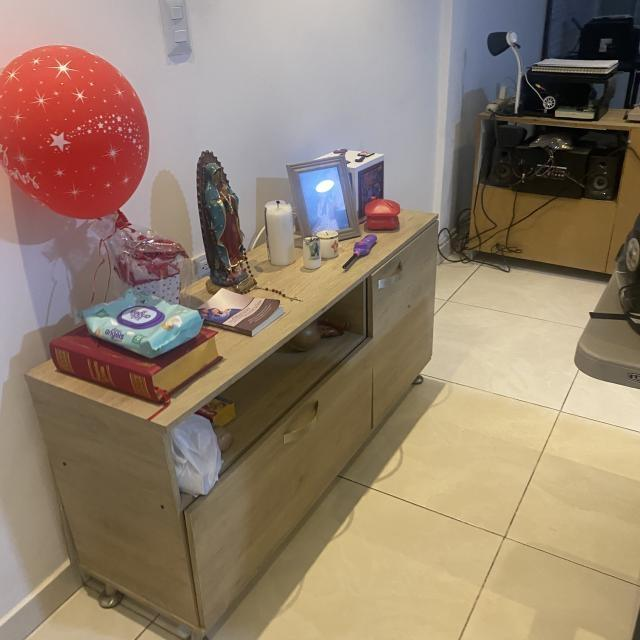obstacle: (38, 128, 449, 632), (440, 70, 640, 270)
